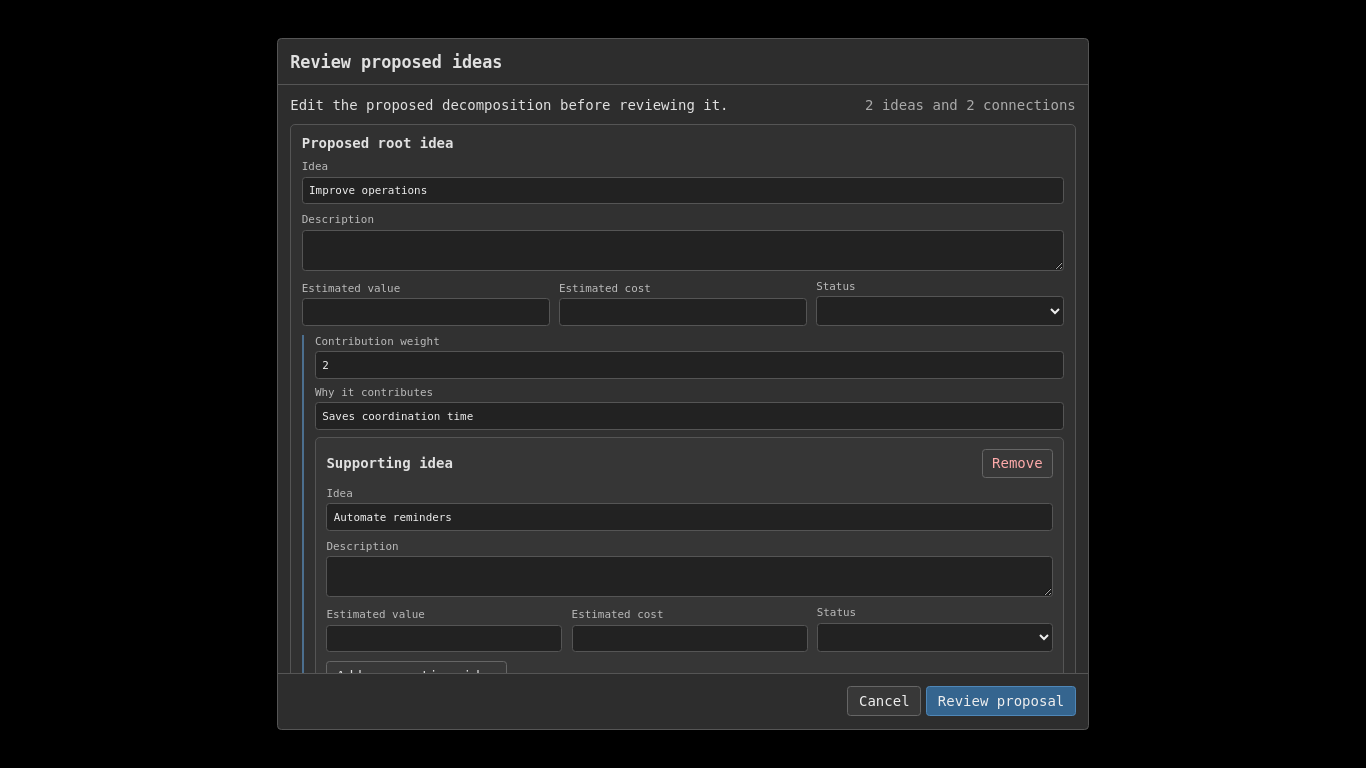
Test: IdeaProposalReview › keeps edits transient and shows the exact approval summary
Replace the text in the 1st field labelled "Idea" with "A better operations idea" at (683, 191), box [302,177,1064,204]
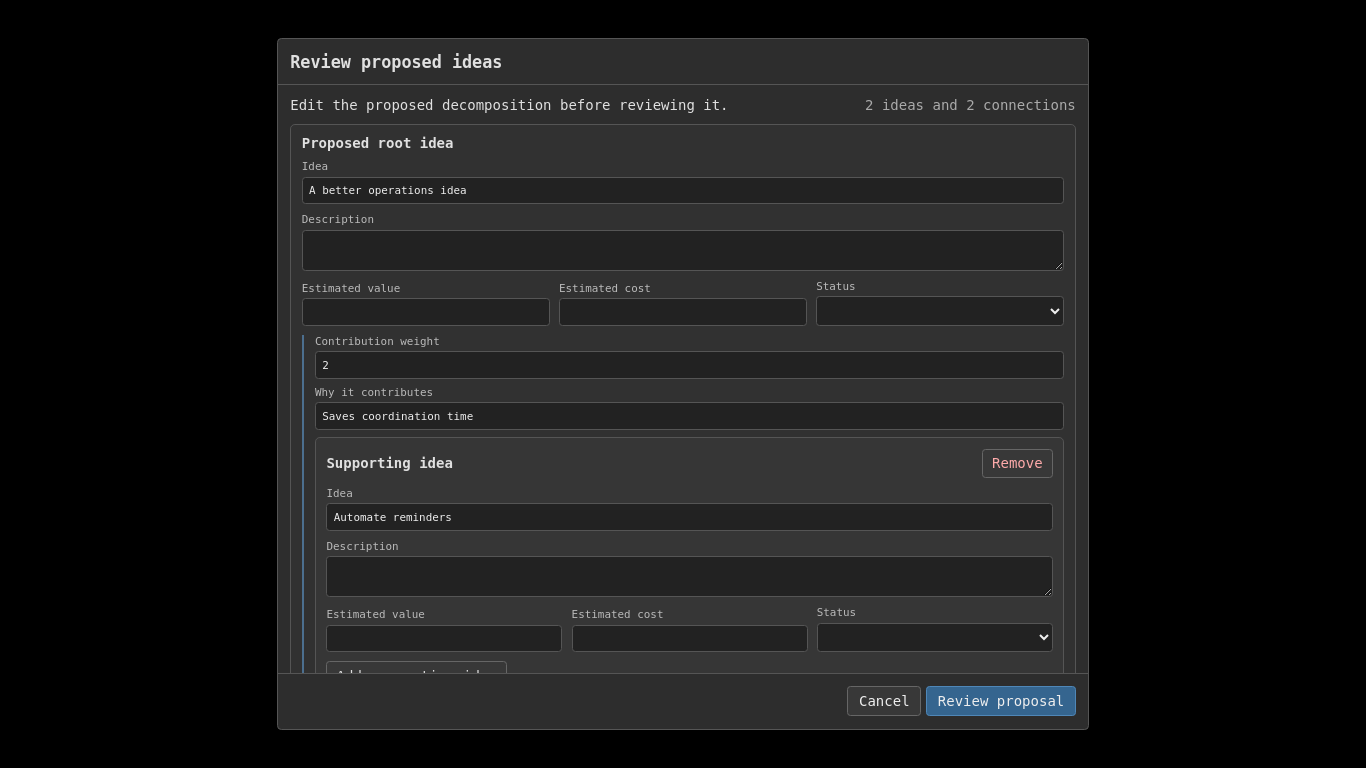
Click the button "Review proposal" at (1001, 701), box [926,686,1076,716]
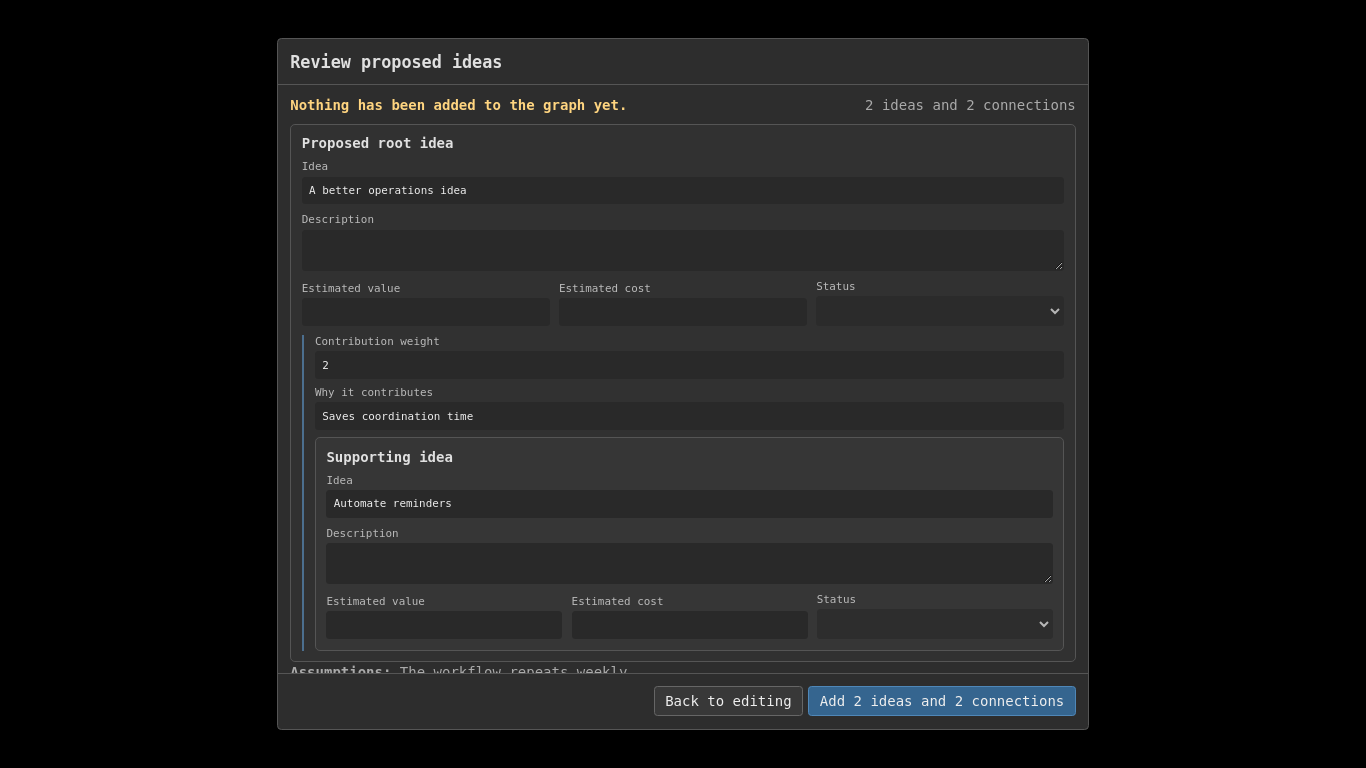
expect the text "Nothing has been added to the graph yet." is shown: met, box [290,97,628,113]
expect the text "Add 2 ideas and 2 connections" is shown: met, box [808,686,1076,716]
